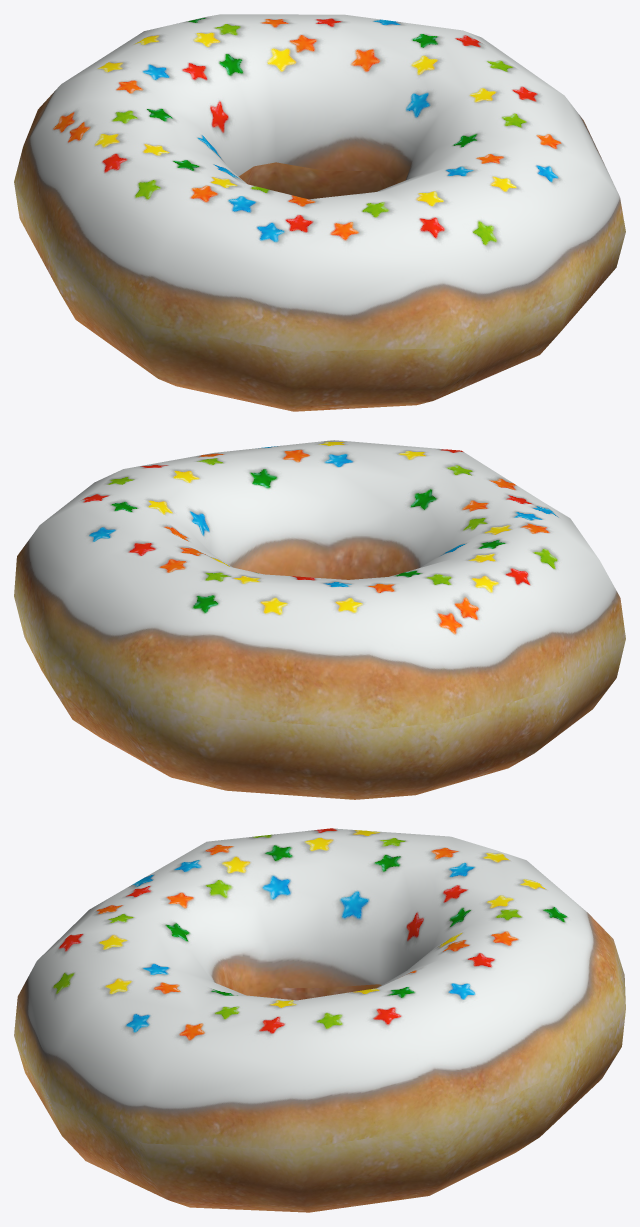
Rendered from Donut9LP.obj.
3 views of the same model, one above another, from view 1: azimuth 30°, elevation 25°; view 2: azimuth 150°, elevation 25°; view 3: azimuth 270°, elevation 25° (orthographic).
Parts seen in each view (by area): view 1: donut074; view 2: donut074; view 3: donut074.
Boxes of the visible parts, box(x1,y1,x2,y2) form: donut074: box(14, 14, 625, 411); donut074: box(14, 440, 625, 799); donut074: box(14, 828, 625, 1212).
Size of the model in its own units: 9.42 by 3.94 by 9.78.
1 material, 1 textured.
